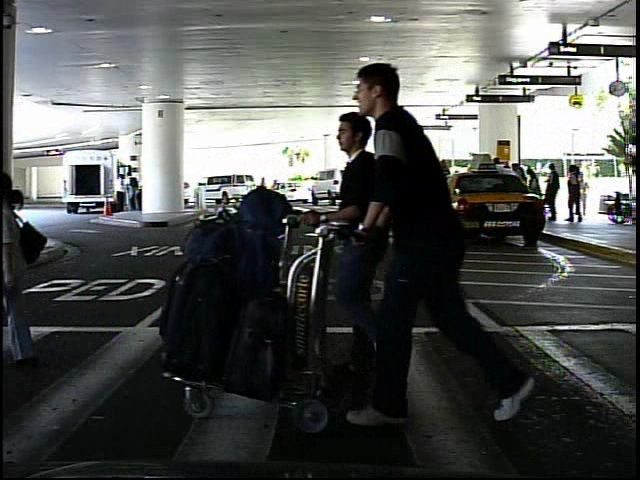person: (361, 47, 530, 426), (319, 114, 391, 387), (579, 171, 598, 219), (114, 172, 128, 213)
